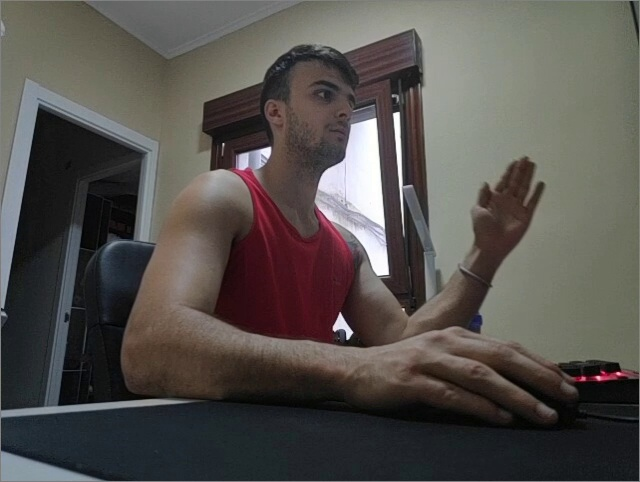Palm: (469, 153, 545, 250)
